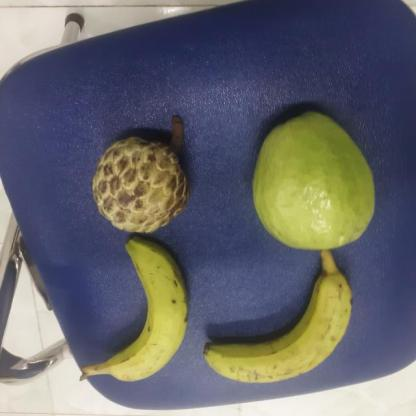annona: (91, 134, 190, 236)
banana: (198, 259, 358, 381), (90, 235, 191, 388)
guava: (240, 110, 380, 254)
